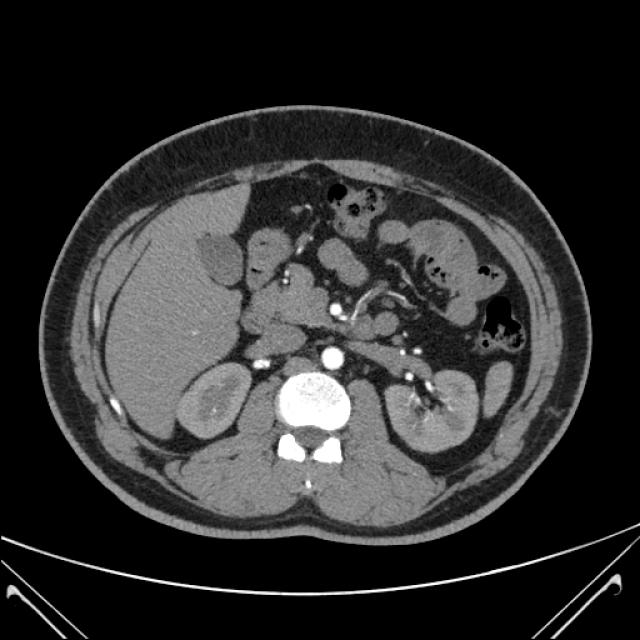Kidney: (0, 82, 551, 518)
